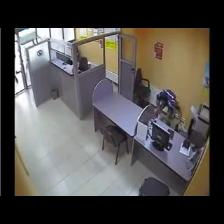person: (154, 89, 181, 131)
